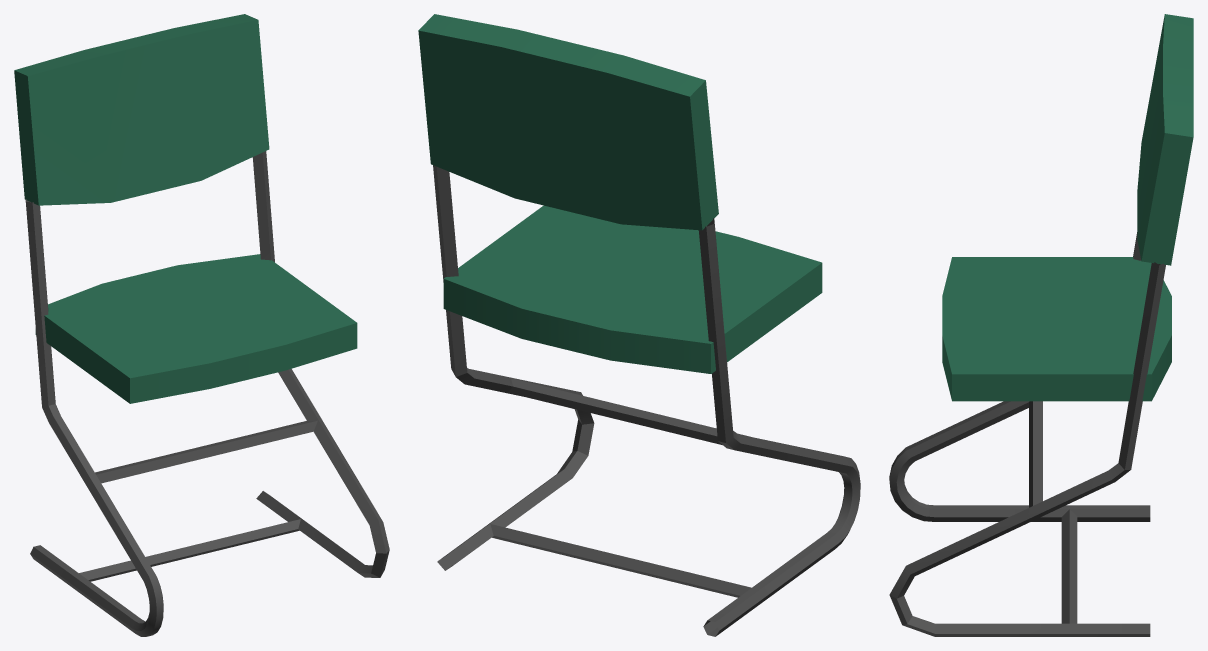
File: chair2.fbx
3 views of the same model, side by side, from view 1: azimuth 30°, elevation 25°; view 2: azimuth 150°, elevation 25°; view 3: azimuth 270°, elevation 25° (orthographic). The views are drawn at different scales.
Parts seen in each view (by area): view 1: chair2; view 2: chair2; view 3: chair2.
Part boxes in pixels (x1=…): chair2: x1=14, y1=14, x2=389, y2=636; chair2: x1=418, y1=14, x2=860, y2=636; chair2: x1=889, y1=14, x2=1193, y2=636.
Bounding box in the file's own units: 1.02 × 1.95 × 1.06.
